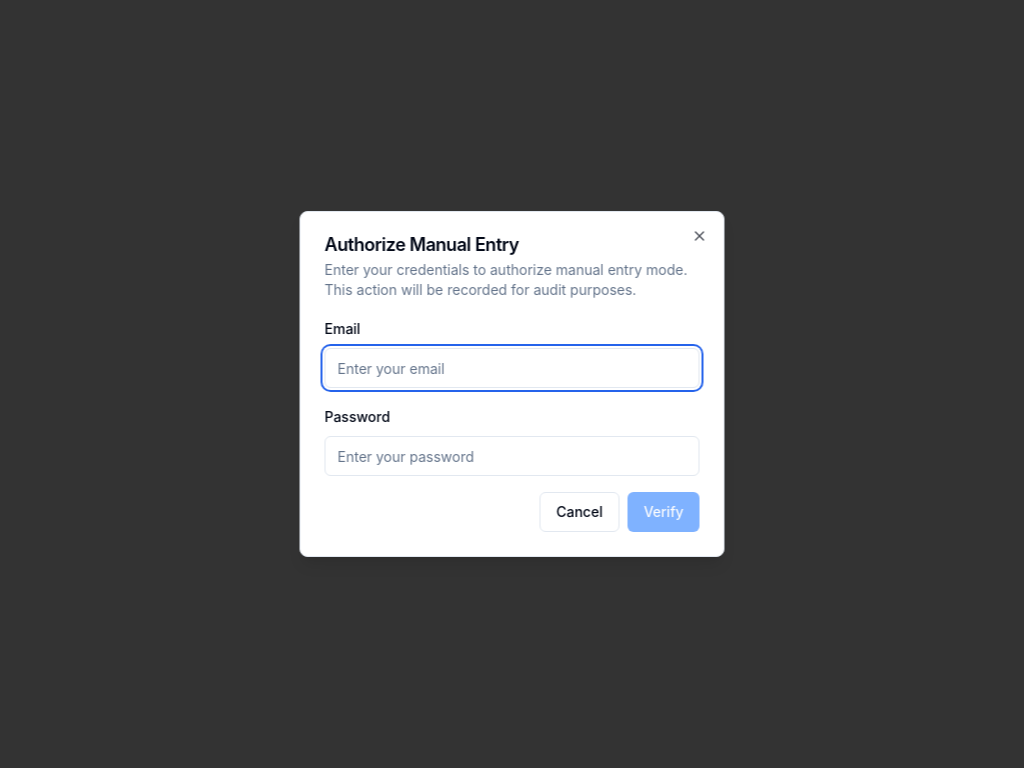
Test case: ManualEntryAuthModal › Permission Check › should show error when user lacks LOTTERY_MANUAL_ENTRY permission
The width and height of the screenshot is (1024, 768).
Type "regular@example.com" into the field with test id "email-input" at (512, 368), box [324,348,700,388]
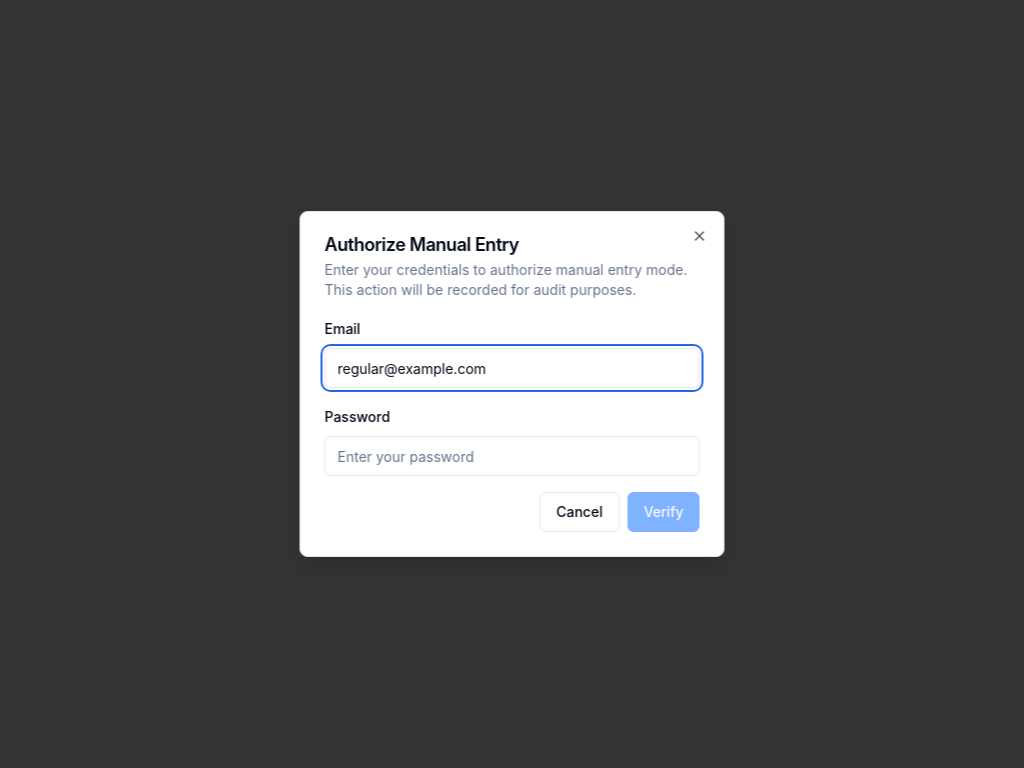
Type "password123" into the password field with test id "password-input" at (512, 456), box [324,436,700,476]
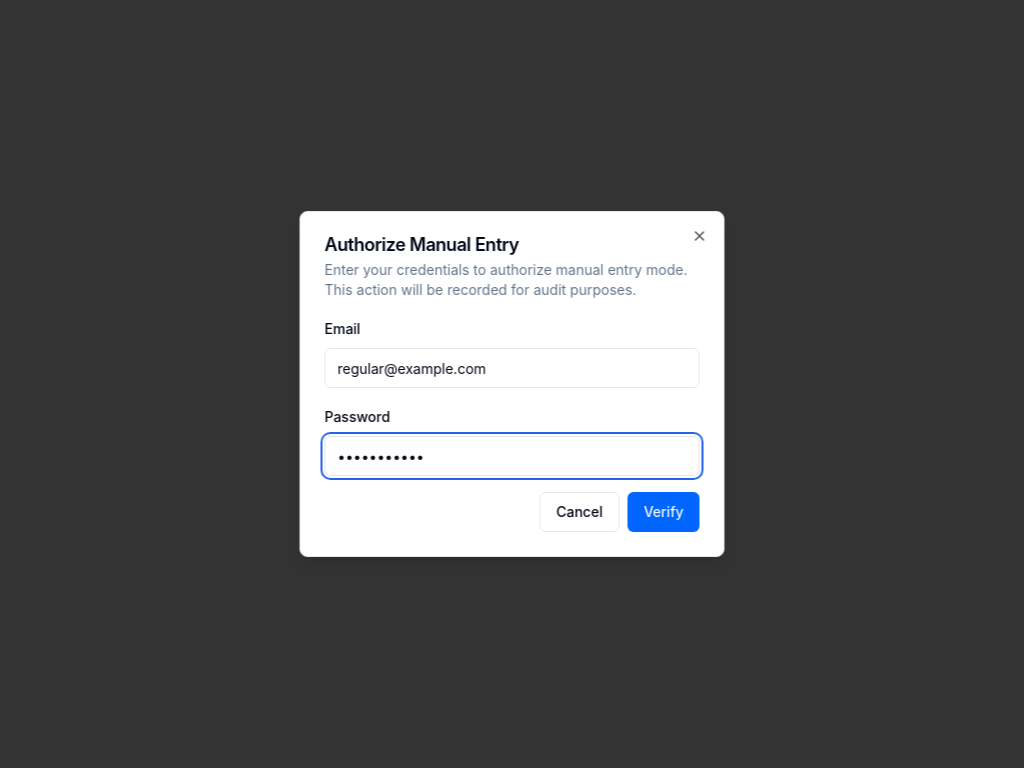
Click the button with test id "verify-button" at (664, 512), box [628,492,700,532]
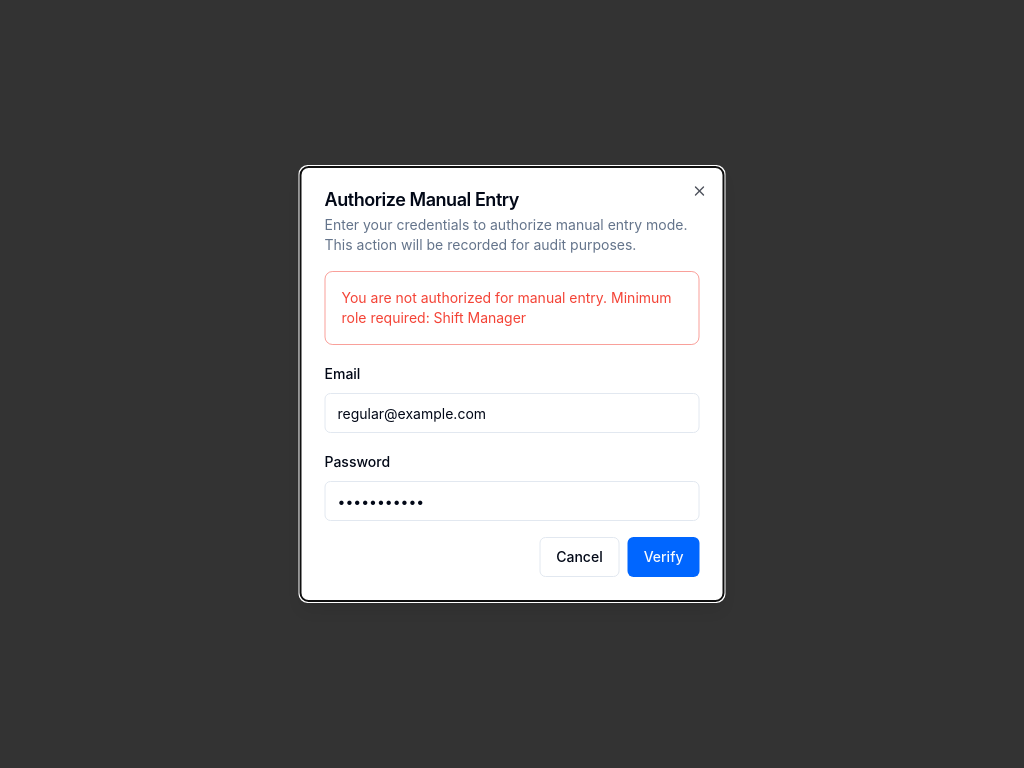
expect the text "not authorized for manual entry" is shown: met, box [342,289,672,326]
